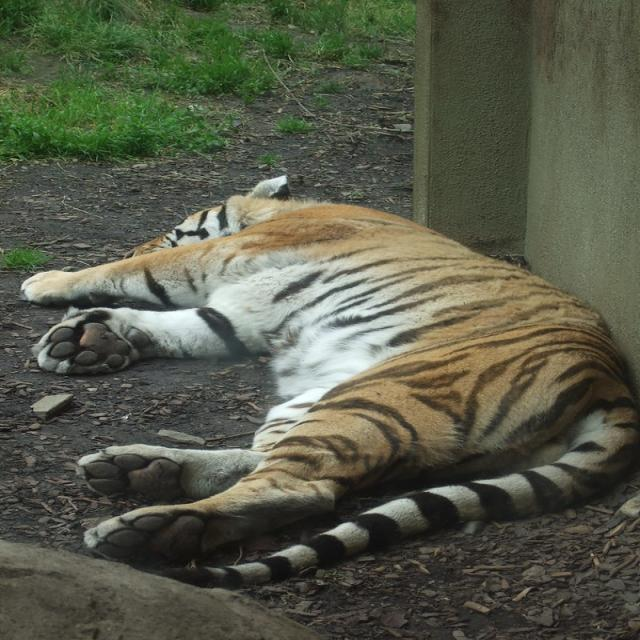Tiger: (18, 171, 638, 589)
